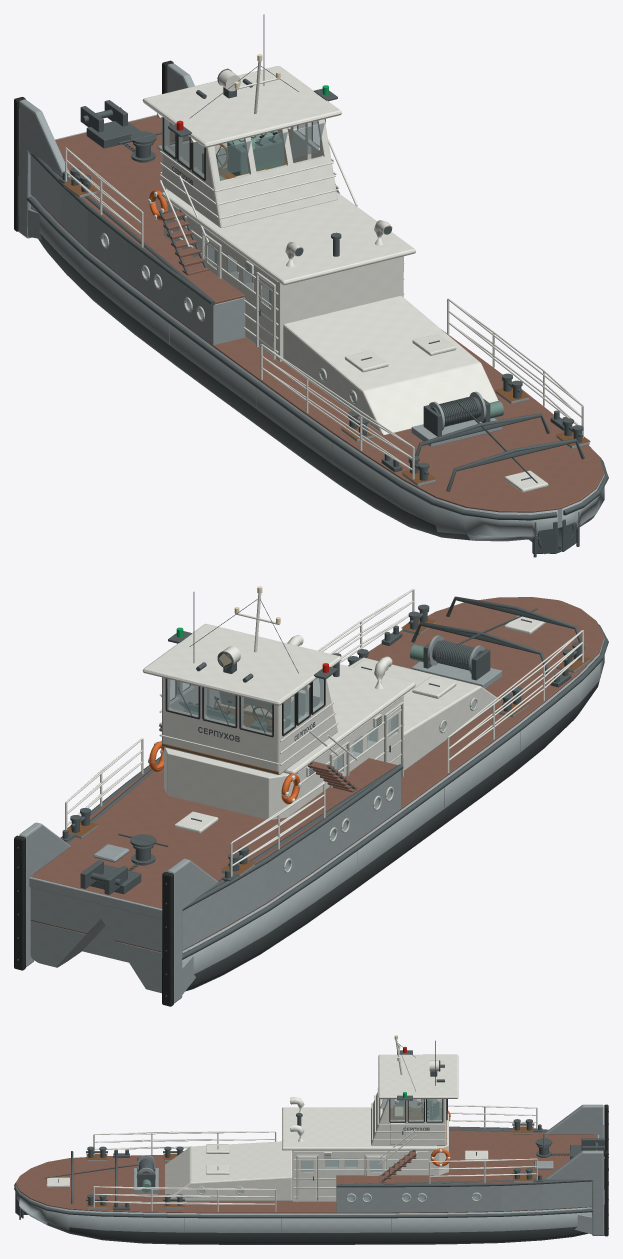
File: Serpukhov_R96.fbx
3 renders of one model, top to bottom at view 1: azimuth 30°, elevation 25°; view 2: azimuth 150°, elevation 25°; view 3: azimuth 270°, elevation 25°, orthographic. The views are drawn at different scales.
Parts seen in each view (by area): view 1: R96_LOD0_Opaque, R96_LOD1_Opaque, R96_LOD2_Glass, R96_LOD0_Glass, R96_LOD1_Glass, R96_LOD2_Opaque; view 2: R96_LOD0_Opaque, R96_LOD1_Opaque, R96_LOD2_Glass, R96_LOD0_Glass, R96_LOD1_Glass, R96_LOD2_Opaque; view 3: R96_LOD0_Opaque, R96_LOD1_Opaque, R96_LOD2_Opaque, R96_LOD0_Glass, R96_LOD2_Glass, R96_LOD1_Glass, R96_LOD0_WheelhouseDoor.
Part boxes in pixels (box(x1,y1,x2,y2)): R96_LOD0_Opaque: box(14, 14, 608, 557); R96_LOD1_Opaque: box(14, 61, 608, 553); R96_LOD2_Glass: box(104, 119, 324, 318); R96_LOD0_Glass: box(103, 119, 354, 401); R96_LOD1_Glass: box(104, 119, 354, 401); R96_LOD2_Opaque: box(30, 54, 605, 554); R96_LOD0_Opaque: box(14, 586, 608, 1006); R96_LOD1_Opaque: box(14, 588, 608, 1006); R96_LOD2_Glass: box(168, 678, 397, 868); R96_LOD0_Glass: box(168, 678, 475, 869); R96_LOD1_Glass: box(168, 678, 475, 869); R96_LOD2_Opaque: box(31, 587, 607, 990); R96_LOD0_Opaque: box(14, 1035, 608, 1244); R96_LOD1_Opaque: box(14, 1054, 608, 1235); R96_LOD2_Opaque: box(14, 1035, 591, 1223); R96_LOD0_Glass: box(198, 1099, 479, 1200); R96_LOD2_Glass: box(301, 1099, 476, 1200); R96_LOD1_Glass: box(198, 1099, 479, 1200); R96_LOD0_WheelhouseDoor: box(390, 1123, 405, 1144).
Size of the model in its own units: 520 by 2163 by 760.
Materials: 17 (10 with a texture image).
